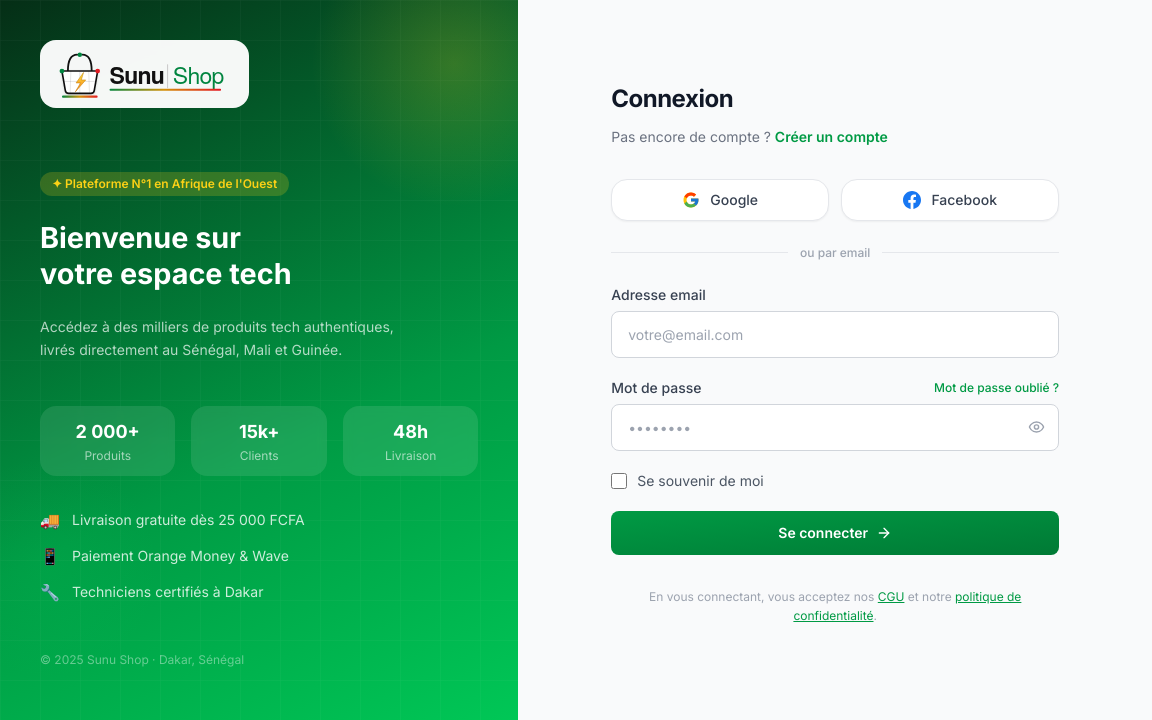
Test: LoginPage › soumission — succès › affiche un spinner pendant le chargement
Type "fatou@test.sn" into the field with placeholder "votre@email.com" at coordinates (835, 334), box left=611, top=310, right=1059, bottom=358
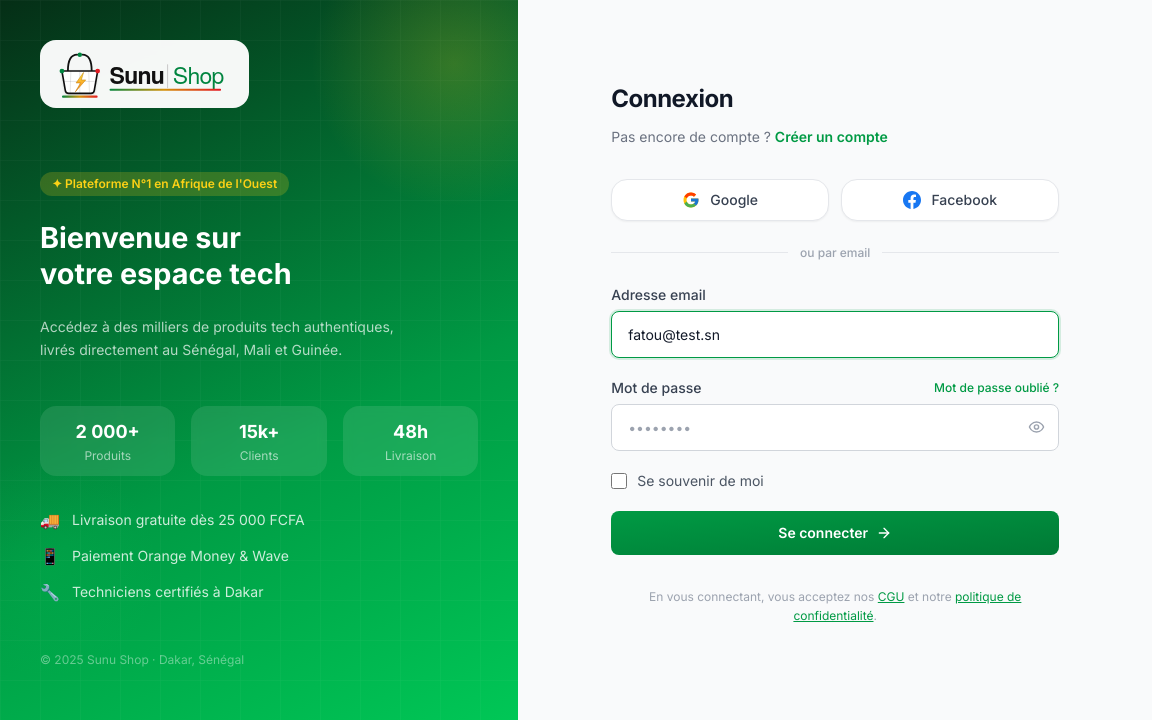
Type "pass" into the password field with placeholder "••••••••" at coordinates (835, 427), box left=611, top=404, right=1059, bottom=450
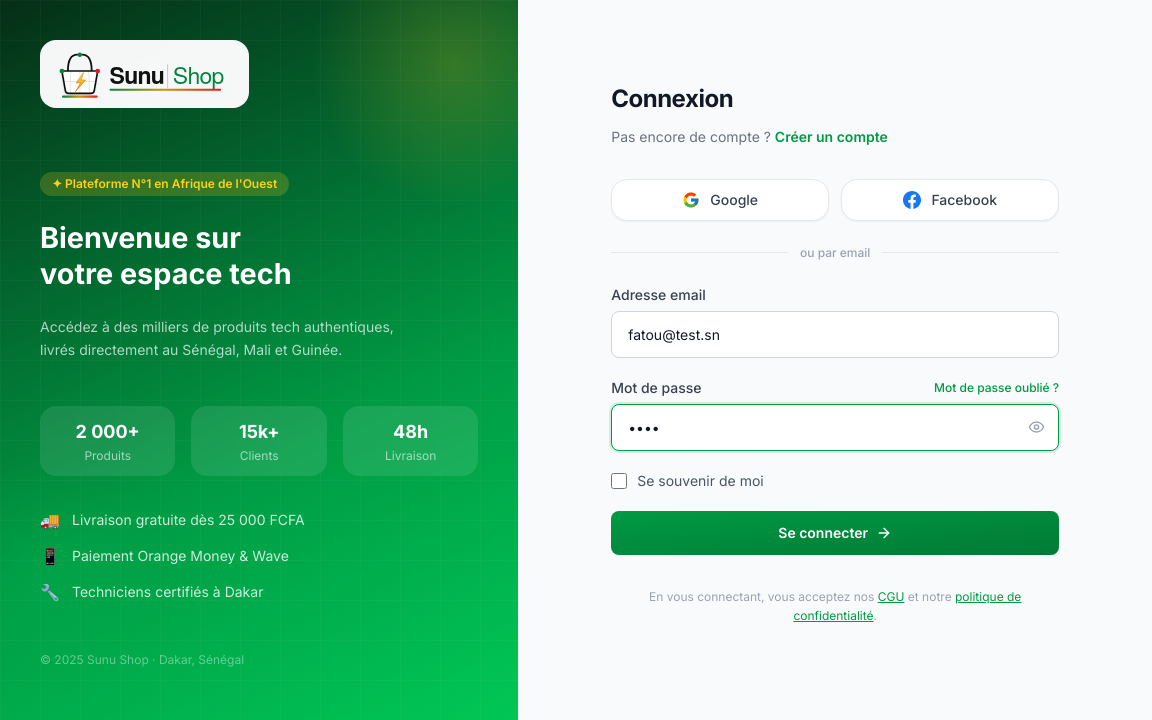
Click the button "Se connecter" at coordinates (835, 532), box left=611, top=510, right=1059, bottom=554
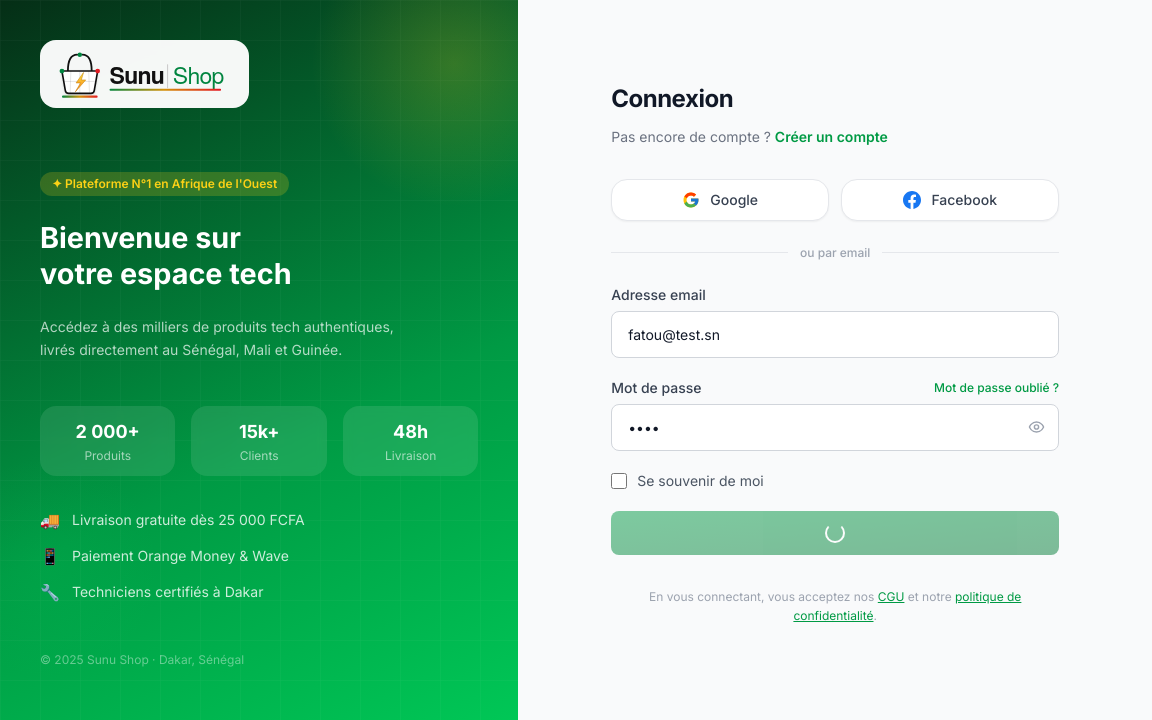
Expected: the button named "se connecter" is disabled, left=611, top=510, right=1059, bottom=554
